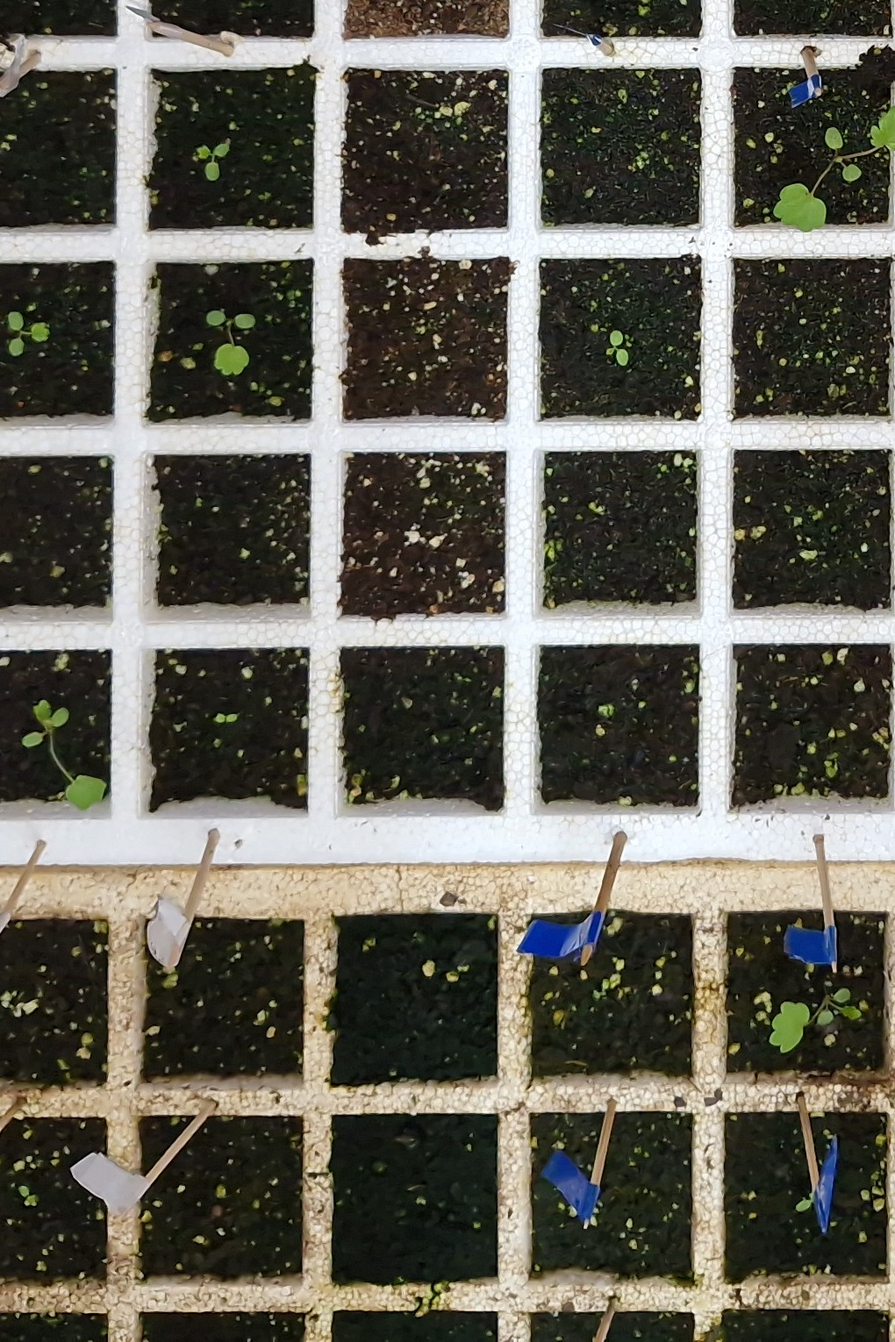Folha: (774, 185, 826, 231), (67, 776, 106, 809), (871, 106, 895, 151), (215, 345, 248, 374), (825, 127, 843, 149), (31, 322, 50, 341), (842, 164, 861, 181), (52, 707, 68, 727), (23, 732, 43, 747), (205, 162, 220, 181), (235, 314, 255, 328), (38, 699, 51, 720), (206, 311, 225, 325), (8, 312, 23, 329), (10, 338, 24, 355), (610, 330, 623, 346), (616, 349, 628, 366), (214, 144, 230, 156), (196, 145, 210, 158)
Germinacao: (773, 106, 895, 232), (22, 700, 107, 809), (208, 310, 256, 375), (8, 311, 49, 355), (196, 143, 229, 181), (606, 331, 628, 366), (214, 714, 237, 723)
